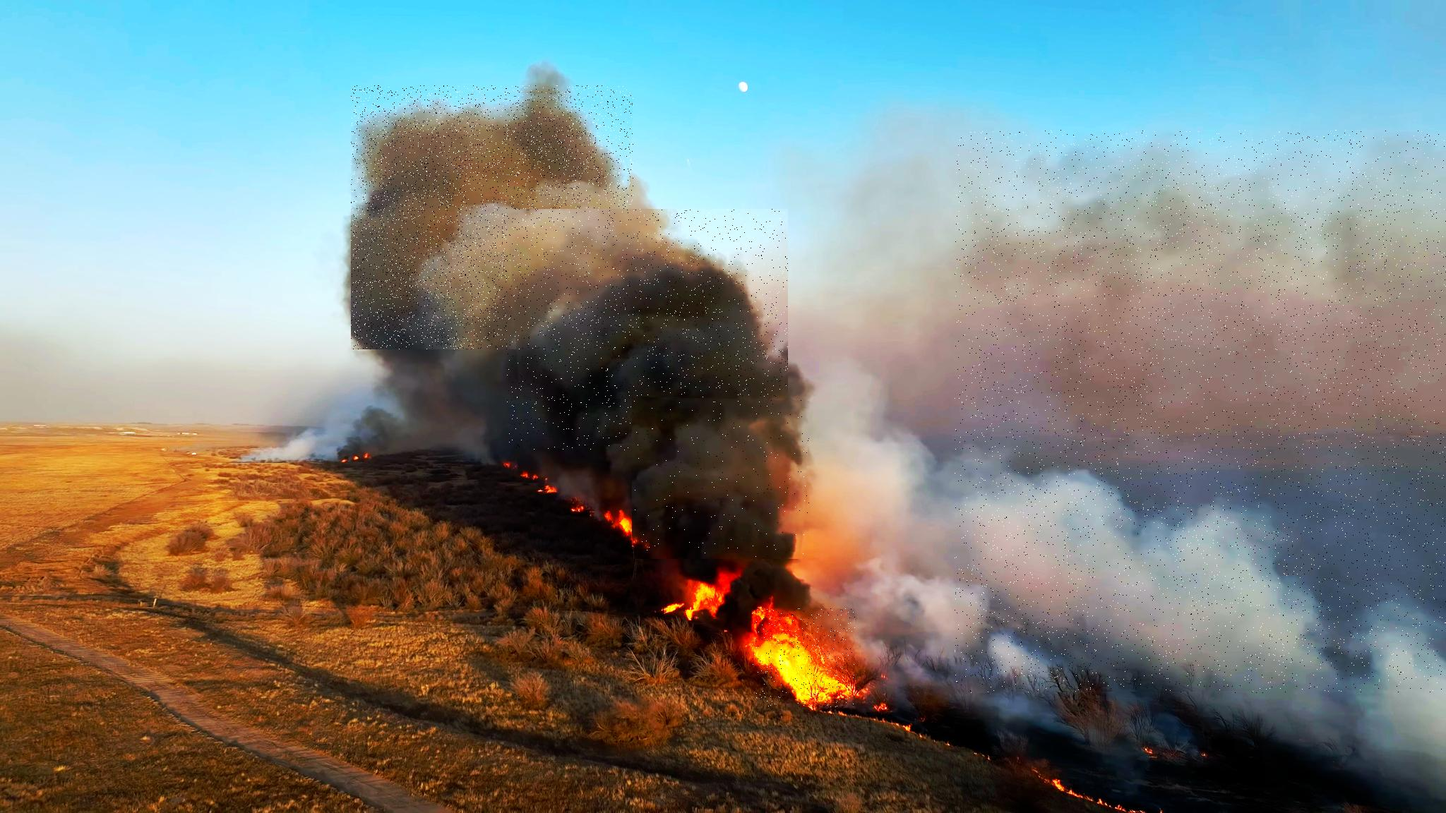fire: (955, 130, 1446, 693), (752, 608, 855, 707)
smoke: (351, 85, 633, 349), (507, 209, 788, 450), (632, 397, 810, 559)
